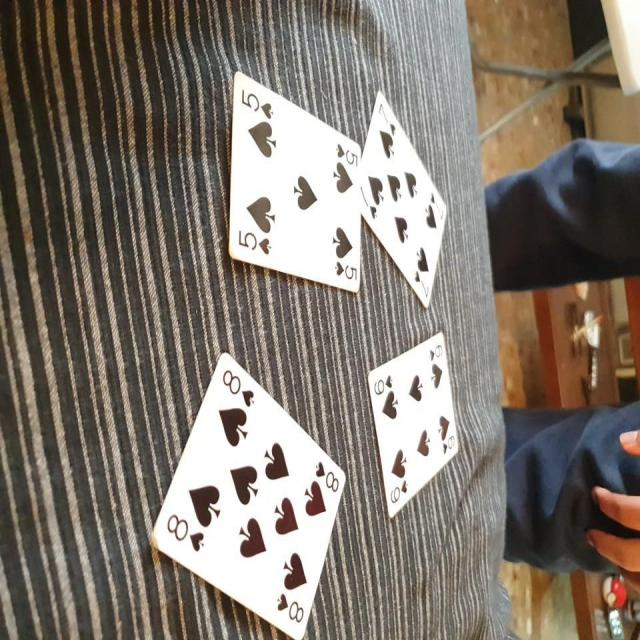5 Spades: (215, 69, 366, 296)
6 Spades: (360, 330, 470, 529)
7 Spades: (356, 91, 459, 318)
8 Spades: (138, 350, 358, 638)
